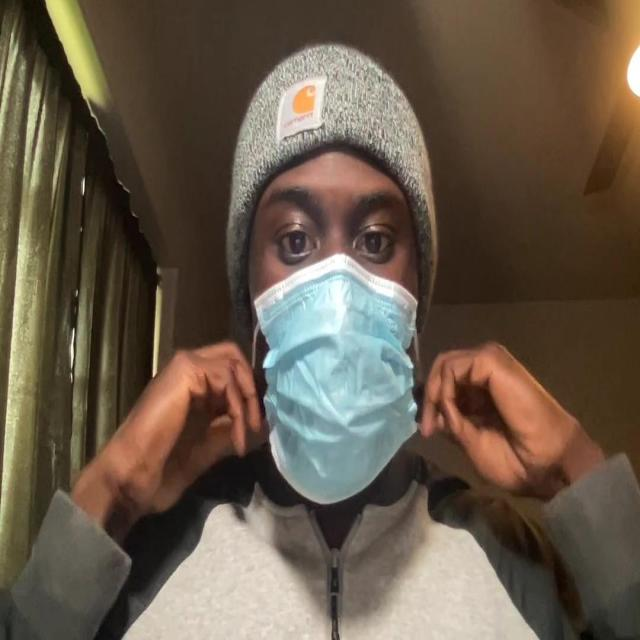face: (241, 119, 433, 504)
